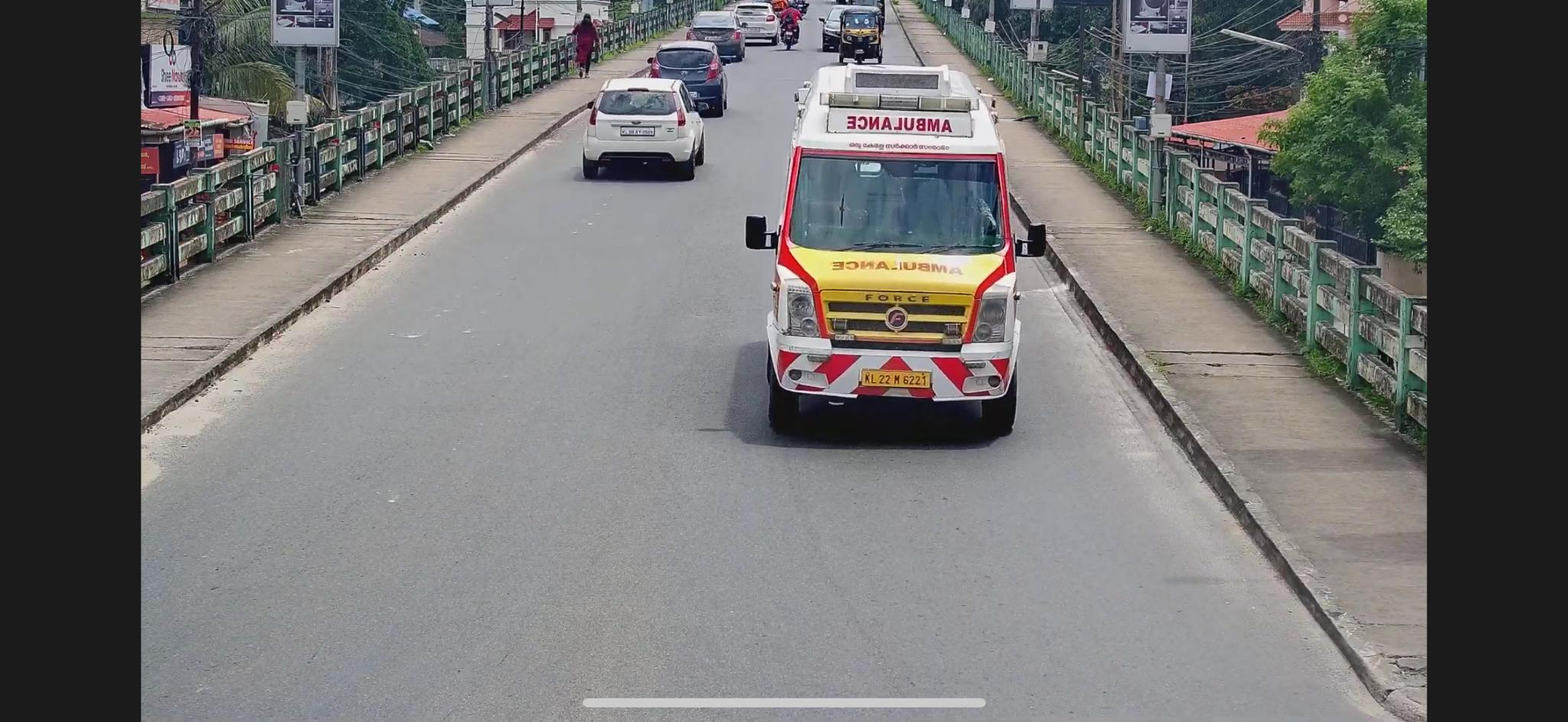ambulance: (768, 65, 1024, 435)
